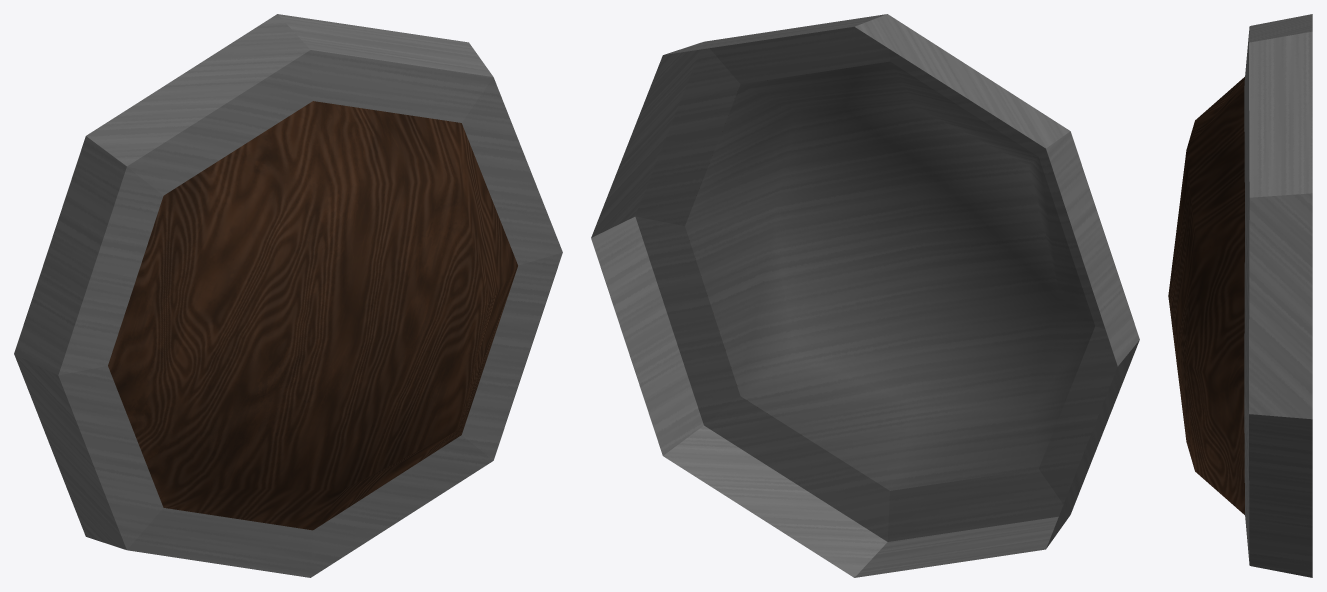
Rendered from Lamp_Wall.glb.
The picture shows the model from 3 angles, left to right: view 1: azimuth 30°, elevation 25°; view 2: azimuth 150°, elevation 25°; view 3: azimuth 270°, elevation 25°; orthographic projection. The views are drawn at different scales.
Parts seen in each view (by area): view 1: Lamp_Wall; view 2: Lamp_Wall; view 3: Lamp_Wall.
Part boxes in pixels (<box>): Lamp_Wall: <box>14,14,562,577</box>; Lamp_Wall: <box>591,14,1139,577</box>; Lamp_Wall: <box>1168,14,1312,577</box>.
Size of the model in its own units: 0.5165 by 0.5165 by 0.1277.
2 materials, 2 textured.
